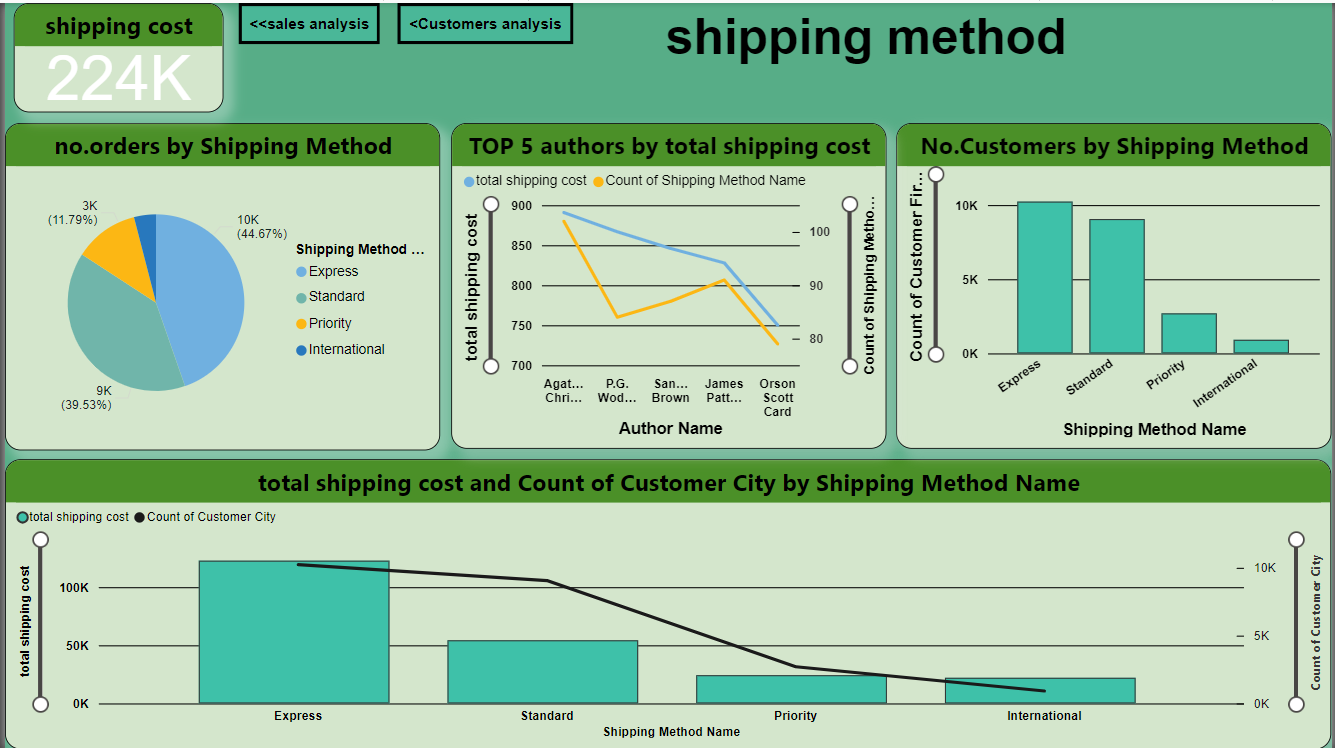

The dashboard page shown, as its layout file describes it:
{"tool":"powerbi","page":{"name":"shipping method","canvas":[1280,720],"ordinal":2},"visuals":[{"type":"pieChart","title":"no.orders by Shipping Method ","fields":{"Category":["Gravity Books Cube.Shipping Method Name"],"Y":["#measures.no.orders"]},"box":[0,115.3,420.1,316],"z":0},{"type":"lineStackedColumnComboChart","fields":{"Category":["Gravity Books Cube.Shipping Method Name"],"Y":["#measures.total shipping cost"],"Y2":["CountNonNull(Gravity Books Cube.Customer City)"]},"box":[0,440,1280.3,280.1],"z":1000},{"type":"columnChart","title":"No.Customers by Shipping Method ","fields":{"Category":["Gravity Books Cube.Shipping Method Name"],"Y":["CountNonNull(Gravity Books Cube.Customer First Name)"]},"box":[860.1,115.3,420.1,314.8],"z":2000},{"type":"lineChart","title":"TOP 5 authors by total shipping cost ","fields":{"Category":["Gravity Books Cube.Author Name"],"Y":["#measures.total shipping cost"],"Y2":["CountNonNull(Gravity Books Cube.Shipping Method Name)"]},"box":[431.3,115.3,420.1,314.8],"z":3000},{"type":"card","title":"shipping cost","fields":{"Values":["#measures.total shipping cost"]},"box":[8.7,0,202,105.3],"z":4000},{"type":"textbox","box":[592.9,0,477.4,70.2],"z":5000},{"type":"actionButton","box":[225.6,0,136.3,39.7],"z":6000},{"type":"actionButton","box":[379.2,0,169.8,39.7],"z":7000}]}

Visuals, with their boxes in screenshot pixels (x1, y1, x2, y2), scaled from the page's 1280x720 canvas onto the 1335x748 screenshot:
"no.orders by Shipping Method " pieChart: l=0, t=120, r=438, b=448
lineStackedColumnComboChart - Gravity Books Cube.Shipping Method Name x #measures.total shipping cost: l=0, t=457, r=1334, b=747
"No.Customers by Shipping Method " columnChart: l=897, t=120, r=1334, b=447
"TOP 5 authors by total shipping cost " lineChart: l=450, t=120, r=888, b=447
"shipping cost" card: l=9, t=0, r=220, b=109
textbox: l=618, t=0, r=1116, b=73
actionButton: l=235, t=0, r=377, b=41
actionButton: l=395, t=0, r=573, b=41
